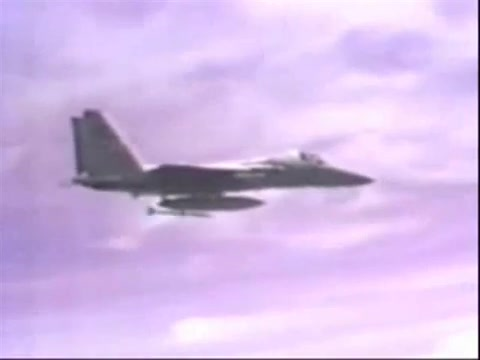aeroplane: (65, 107, 379, 220)
